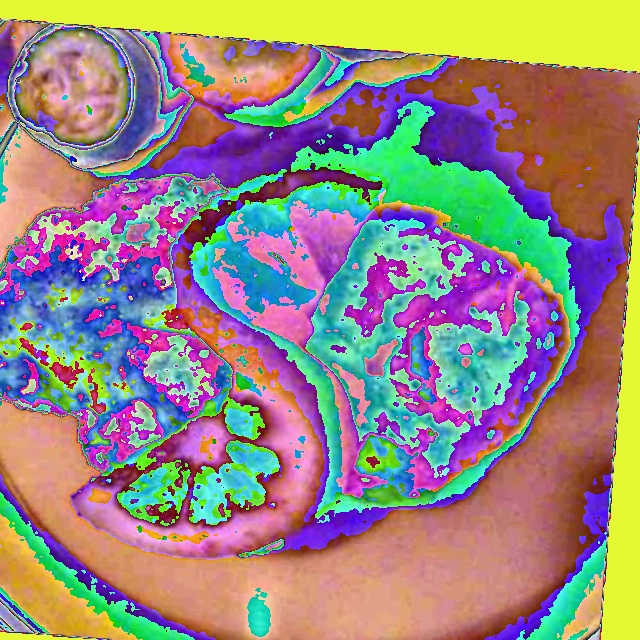background: (0, 163, 557, 559), (5, 21, 409, 170)
